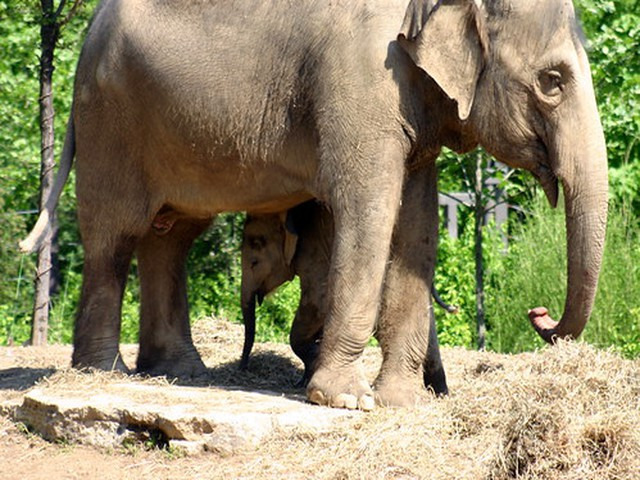Elephant: (50, 2, 615, 405)
